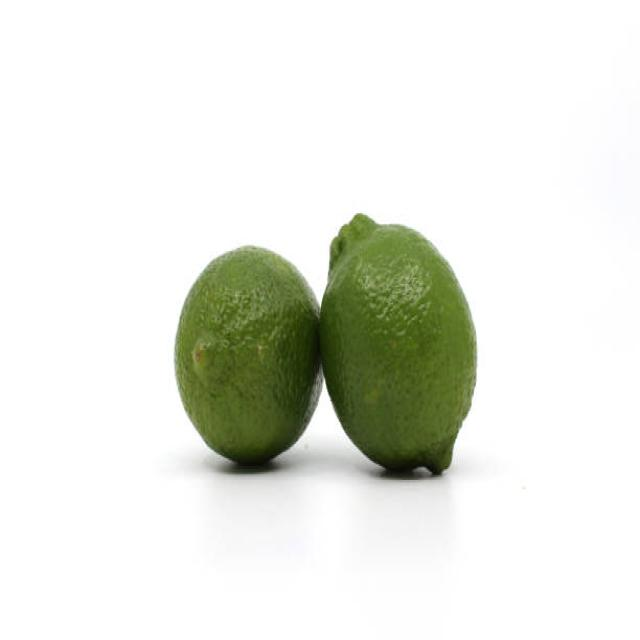Unripe: (318, 213, 478, 473), (174, 240, 324, 462)
